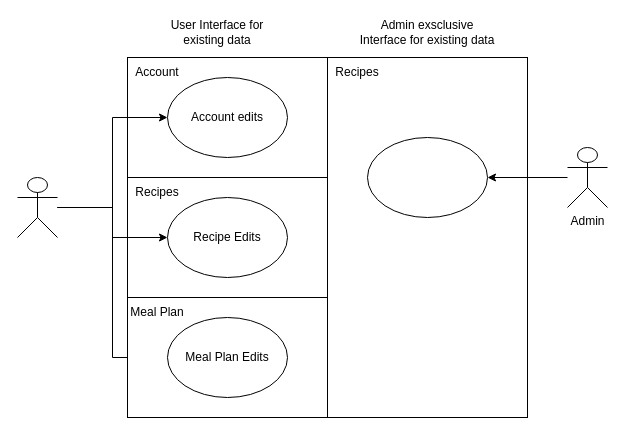
Some shapes in this 625 by 435 pixel diagram are drawn without their labels. The centre of each missing label's shape, as x and y in pixels:
"Quarantined recipes" goes at pixel 427 177.
"User" goes at pixel 37 207.
